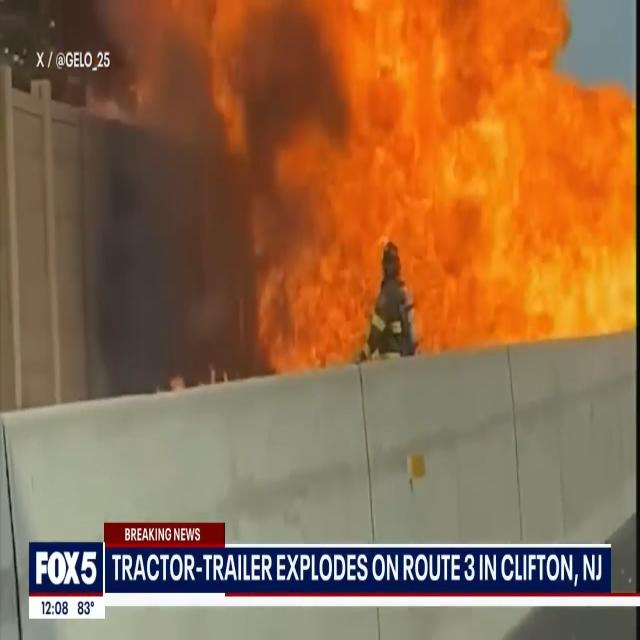fire: (146, 2, 370, 360), (379, 6, 636, 240), (427, 68, 635, 348)
